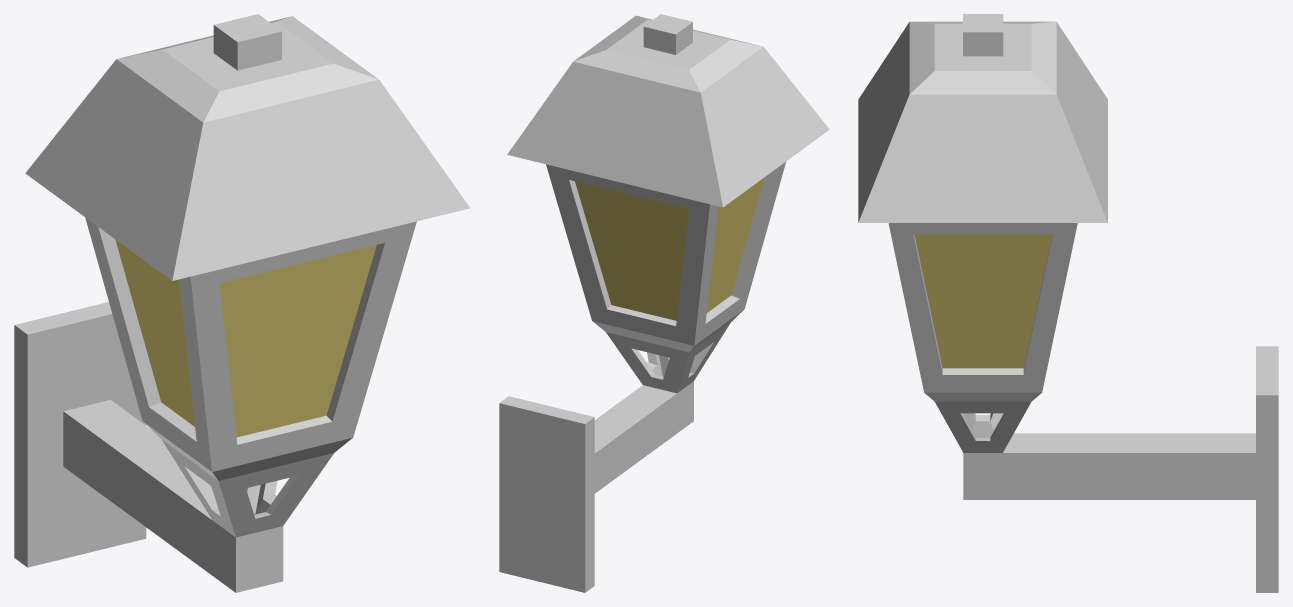
The model's file is wall light.fbx.
3 views of the same model, side by side, from view 1: azimuth 30°, elevation 25°; view 2: azimuth 150°, elevation 25°; view 3: azimuth 270°, elevation 25° (orthographic). The views are drawn at different scales.
Visible parts, largest first — view 1: Cube.066; view 2: Cube.066; view 3: Cube.066.
Boxes of the visible parts, x1=… form: Cube.066: x1=14, y1=14, x2=469, y2=592; Cube.066: x1=499, y1=14, x2=829, y2=592; Cube.066: x1=858, y1=14, x2=1278, y2=592.
Bounding box in the file's own units: 174 × 359 × 251.
